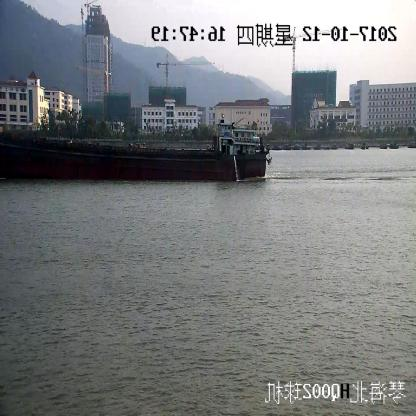Bulk Carrier: (0, 121, 270, 178)
